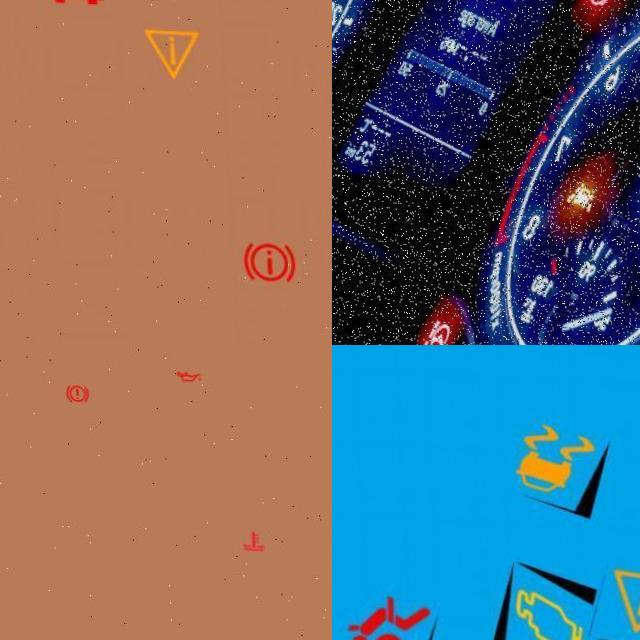Electronic Power Steering: (411, 306, 464, 345)
